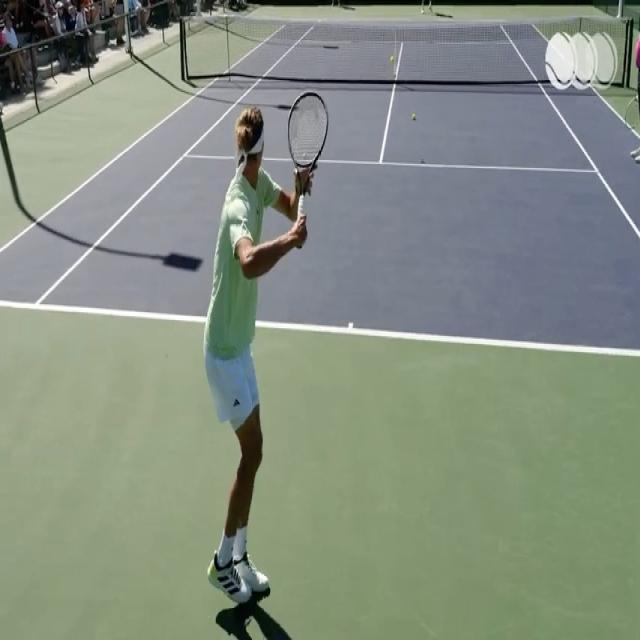forehand-ready: (206, 96, 326, 617)
